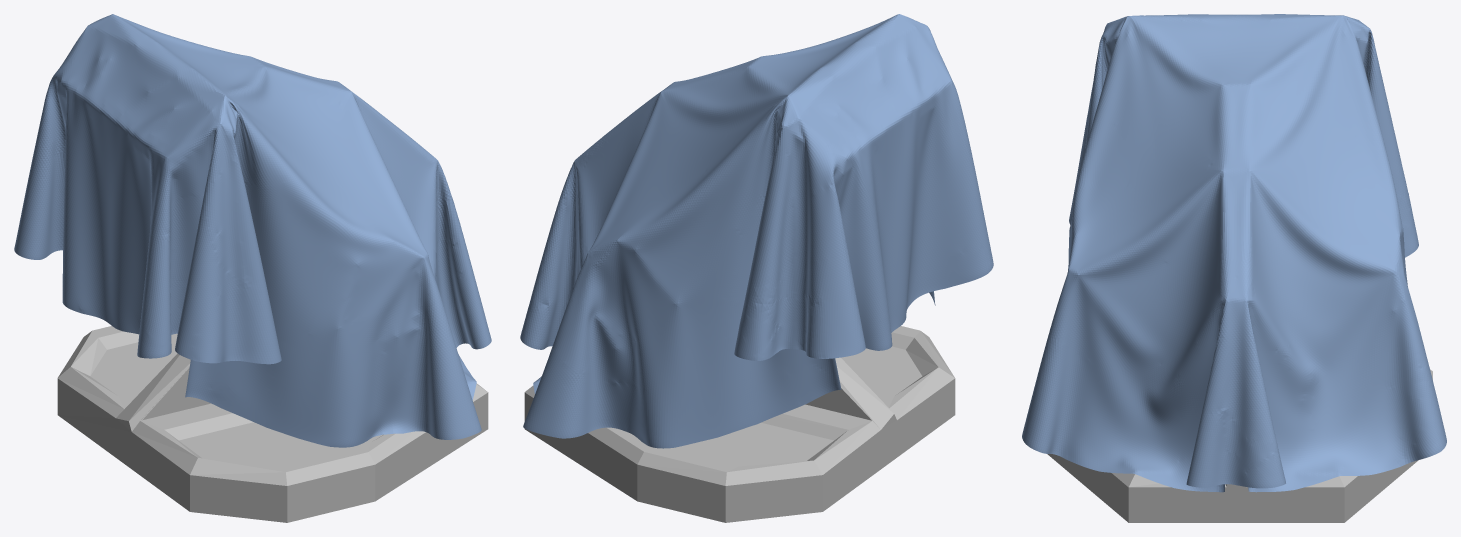
Rendered from level_4.glb.
The picture shows the model from 3 angles, left to right: view 1: azimuth 30°, elevation 25°; view 2: azimuth 150°, elevation 25°; view 3: azimuth 270°, elevation 25°; orthographic projection. The views are drawn at different scales.
Visible parts, largest first — view 1: world, object.obj; view 2: world, object.obj; view 3: world, object.obj.
Boxes of the visible parts, box(x1,y1,x2,y2) form: world: box(14, 14, 491, 447); object.obj: box(57, 326, 488, 522); world: box(520, 14, 993, 448); object.obj: box(524, 326, 955, 522); world: box(1022, 14, 1446, 492); object.obj: box(1047, 369, 1432, 522).
Bounding box in the file's own units: 0.3115 × 0.3008 × 0.3022.
